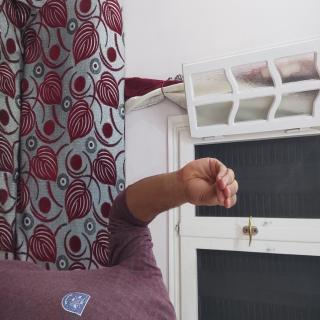HA: (116, 102, 164, 195)
